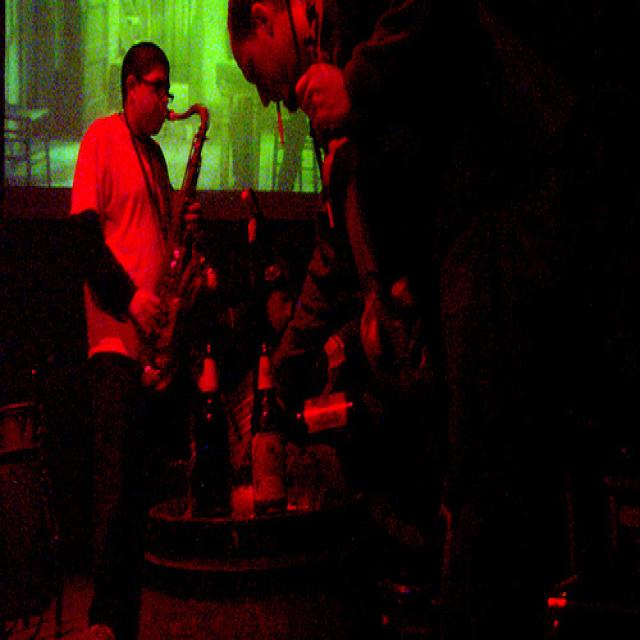Bottle: (189, 325, 229, 528), (261, 345, 287, 524)
People: (253, 0, 640, 640), (59, 2, 197, 529)
Table: (127, 475, 479, 640)
